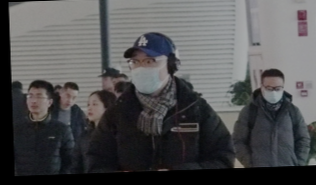with_mask: (128, 51, 168, 95), (263, 83, 285, 104)
without_mask: (25, 91, 47, 114), (86, 97, 105, 121), (59, 92, 78, 111)
